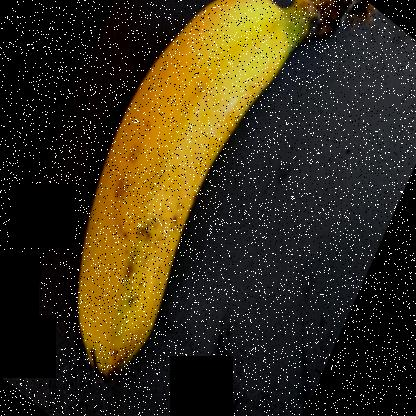ripe: (75, 19, 291, 380)
